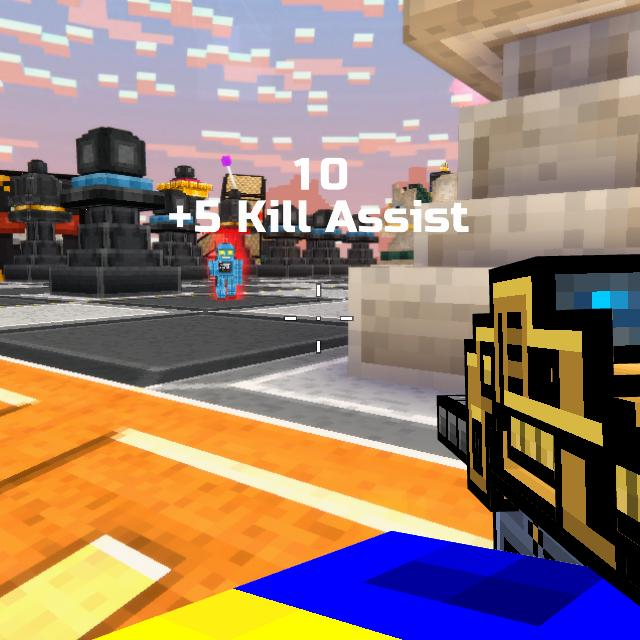Enemy: (208, 242, 243, 301)
